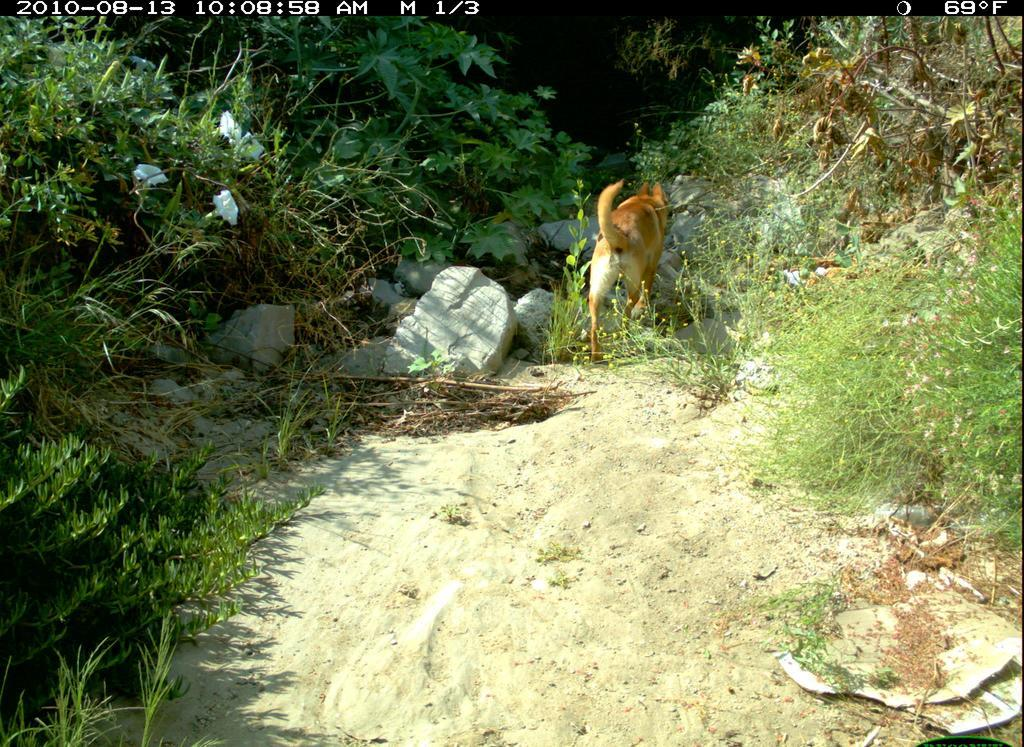dog: (580, 171, 688, 379)
